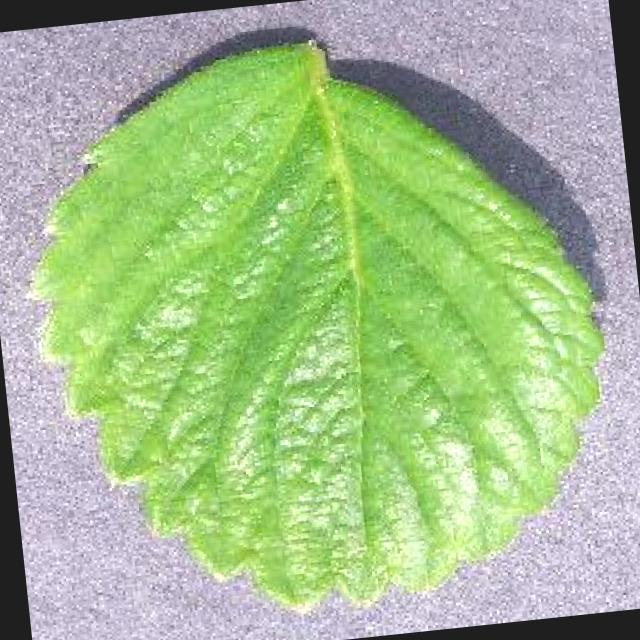healthy: (36, 45, 600, 608)
